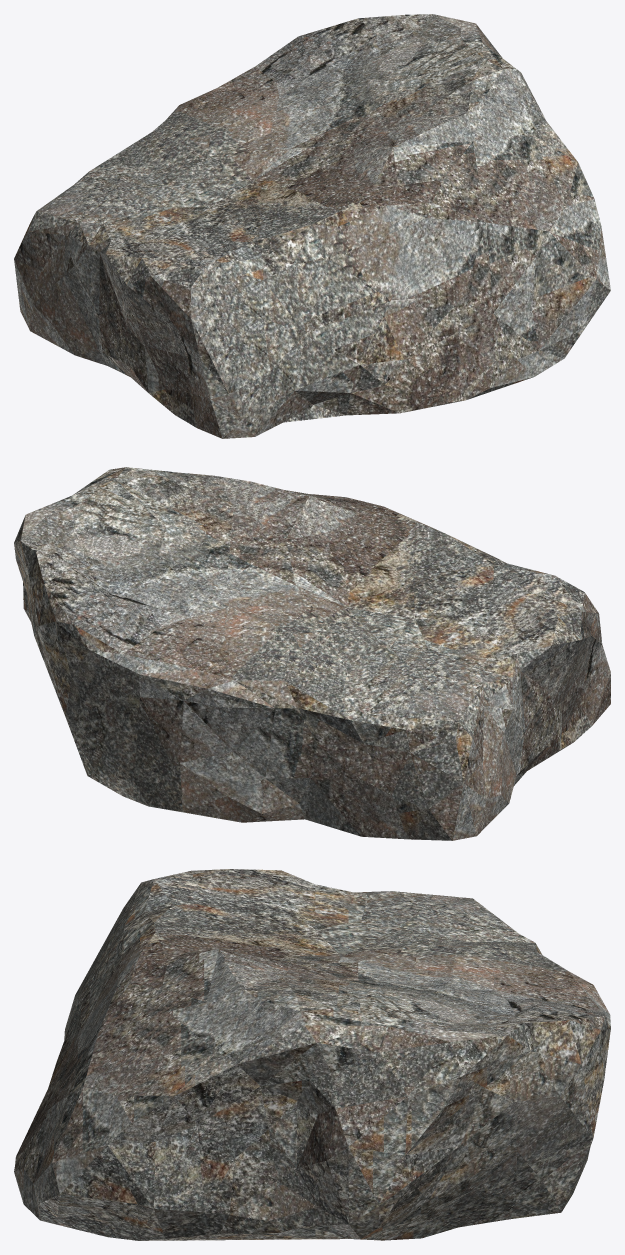
Rendered from Stone4.fbx.
The picture shows the model from 3 angles, top to bottom: view 1: azimuth 30°, elevation 25°; view 2: azimuth 150°, elevation 25°; view 3: azimuth 270°, elevation 25°; orthographic projection. The views are drawn at different scales.
Parts seen in each view (by area): view 1: skp133_1; view 2: skp133_1; view 3: skp133_1.
Boxes of the visible parts, box(x1,y1,x2,y2) form: skp133_1: box(14, 14, 610, 438); skp133_1: box(14, 467, 610, 840); skp133_1: box(14, 869, 610, 1240).
Bounding box in the file's own units: 0.5932 × 0.259 × 0.5416.
